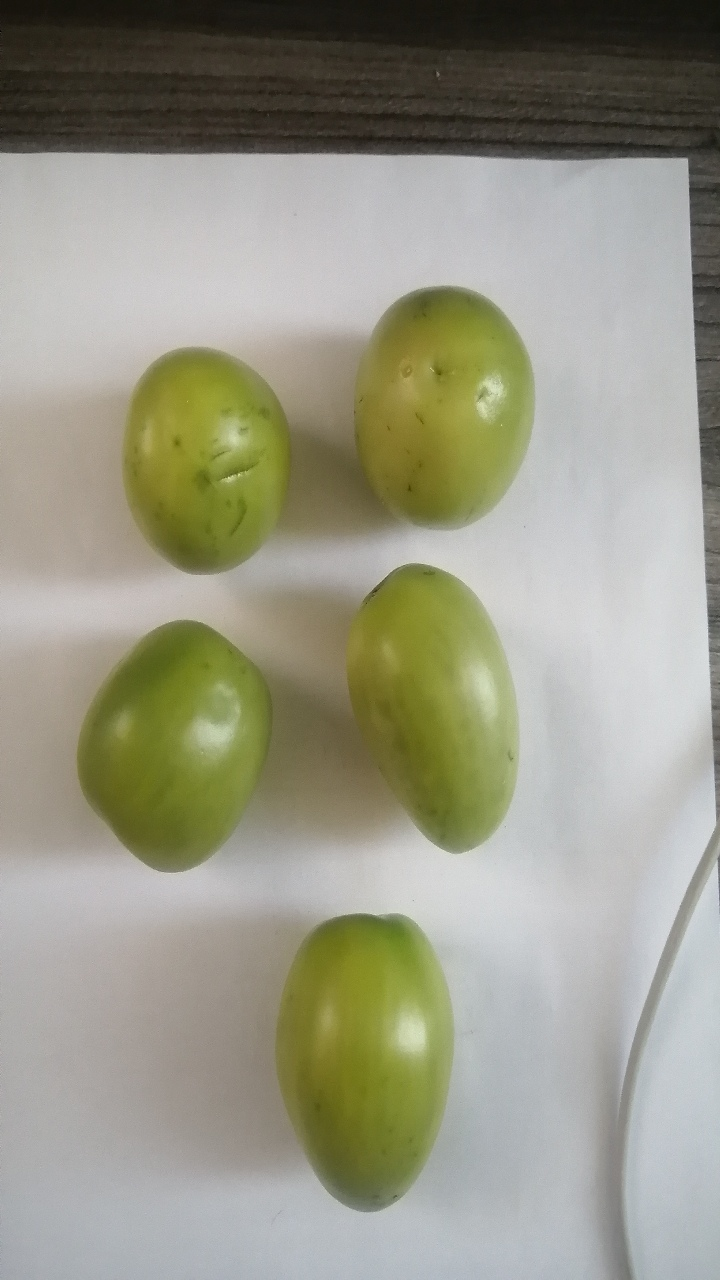tomateVerde: (243, 889, 460, 1231), (329, 537, 531, 877), (326, 254, 557, 546), (64, 605, 269, 897), (94, 322, 304, 595)
